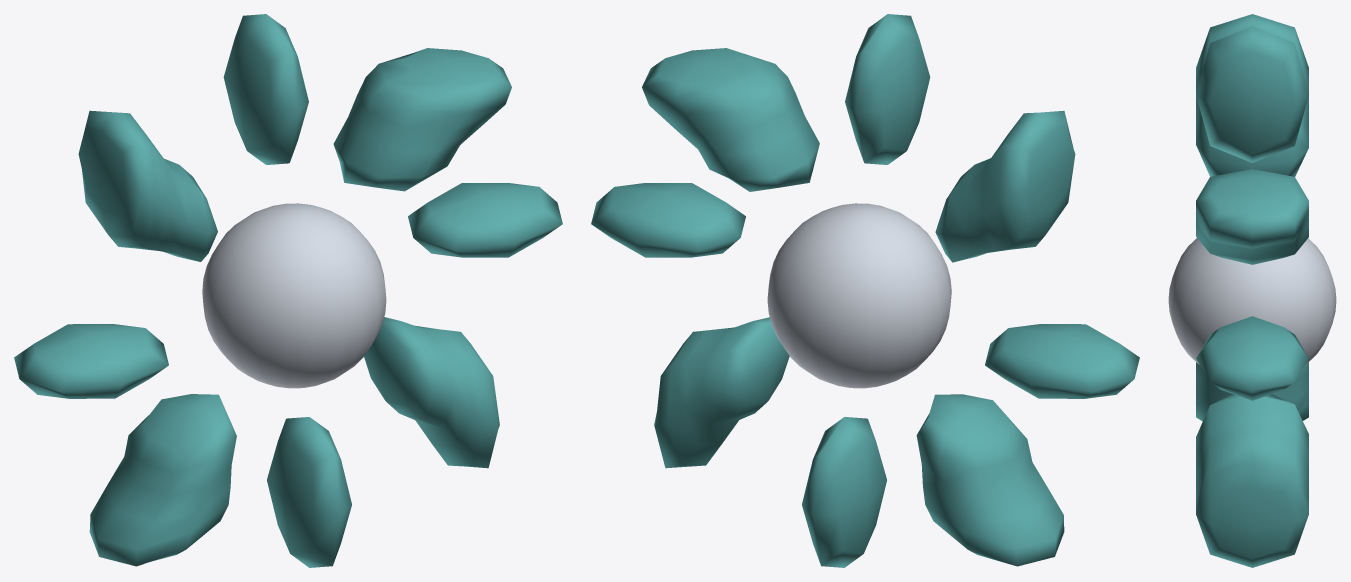
The model's file is MOD_DoubleLife.fbx.
3 views of the same model, side by side, from view 1: azimuth 30°, elevation 25°; view 2: azimuth 150°, elevation 25°; view 3: azimuth 270°, elevation 25° (orthographic). The views are drawn at different scales.
Visible parts, largest first — view 1: PowerLife; view 2: PowerLife; view 3: PowerLife.
Boxes of the visible parts, x1,y1,x2,y2 form: PowerLife: [14, 14, 562, 567]; PowerLife: [591, 14, 1139, 567]; PowerLife: [1168, 14, 1336, 567].
Bounding box in the file's own units: 64.83 × 64.97 × 19.33.
